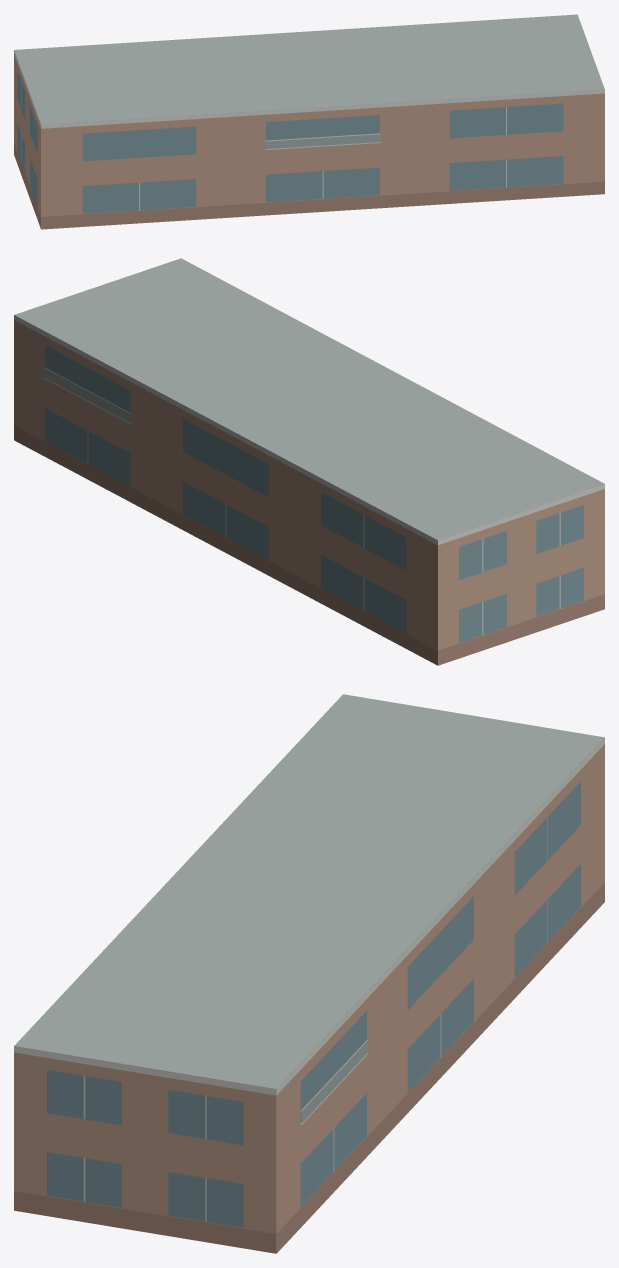
Rendered from survey-upis-32596165.glb.
3 views of the same model, one above another, from view 1: azimuth 30°, elevation 25°; view 2: azimuth 150°, elevation 25°; view 3: azimuth 270°, elevation 25° (orthographic). The views are drawn at different scales.
Parts seen in each view (by area): view 1: survey-upis-32596165.tmp; view 2: survey-upis-32596165.tmp; view 3: survey-upis-32596165.tmp.
Part boxes in pixels (x1=…): survey-upis-32596165.tmp: x1=14, y1=14, x2=604, y2=229; survey-upis-32596165.tmp: x1=14, y1=258, x2=604, y2=665; survey-upis-32596165.tmp: x1=14, y1=694, x2=604, y2=1253.
Bounding box in the file's own units: 31.38 × 6.1 × 19.84.
